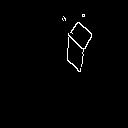cube: (50, 21, 103, 75)
